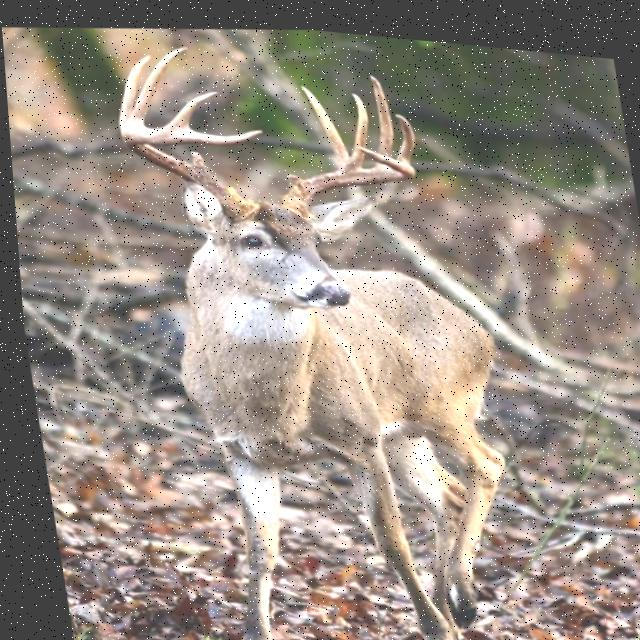L-F: (279, 139, 413, 212)
L-G2: (298, 78, 347, 162)
L-G3: (343, 84, 366, 160)
L-G5: (393, 105, 413, 157)
R-F: (116, 123, 261, 215)
R-G1: (187, 147, 202, 163)
R-G2: (117, 51, 150, 111)
R-G3: (130, 42, 187, 115)
R-G4: (161, 86, 217, 125)
